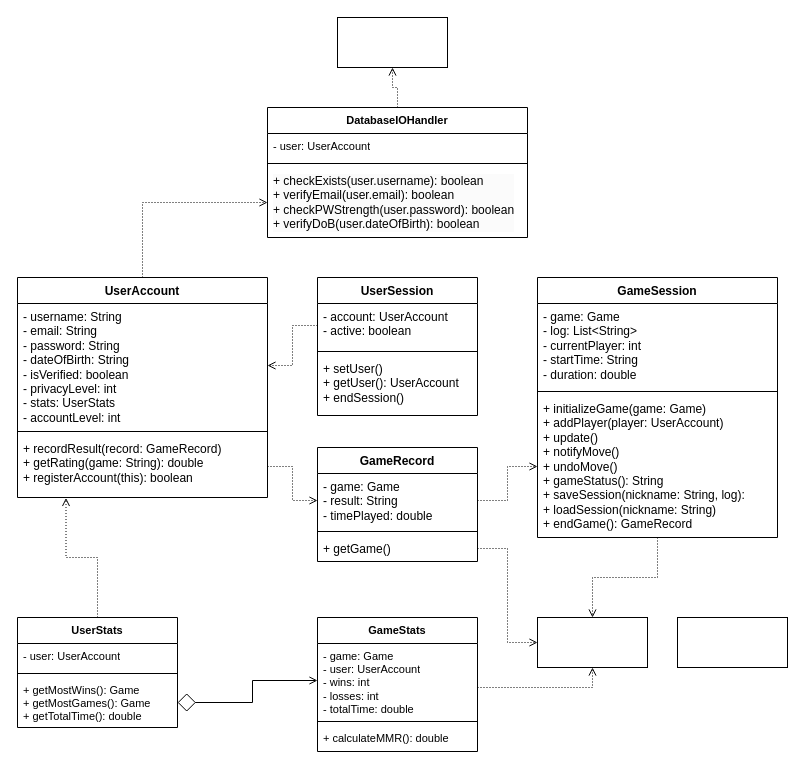
This 805x772 diagram has some shape labels left out. The shapes that lost their labels are listed below. From the top down, each one's centre as x and y in pixels, then its label:
At [392,42]: "Database".
At [592,642]: "Game".
At [732,642]: "Game IO Handler".
